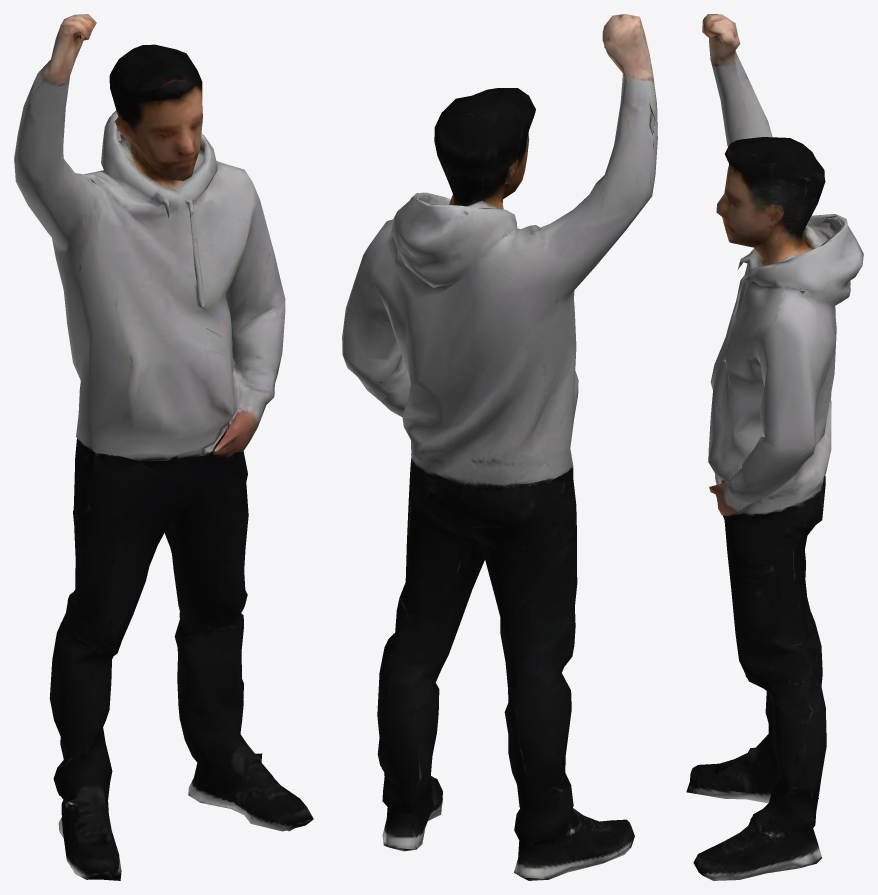
Rendered from fan-m-onearm-s1.lo.glb.
3 renders of one model, left to right at view 1: azimuth 30°, elevation 25°; view 2: azimuth 150°, elevation 25°; view 3: azimuth 270°, elevation 25°, orthographic. The views are drawn at different scales.
Parts seen in each view (by area): view 1: geometry_0; view 2: geometry_0; view 3: geometry_0.
Part boxes in pixels (x1,y1,x2,y2): geometry_0: (14,14,313,880); geometry_0: (342,14,657,880); geometry_0: (686,14,863,880).
Bounding box in the file's own units: 0.3486 × 1 × 0.2101.
1 material, 1 textured.
